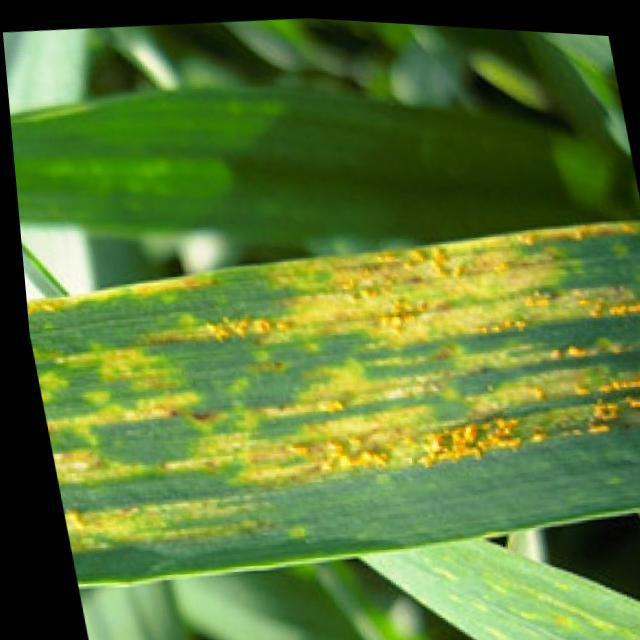Yellow Rust: (20, 213, 639, 639)
